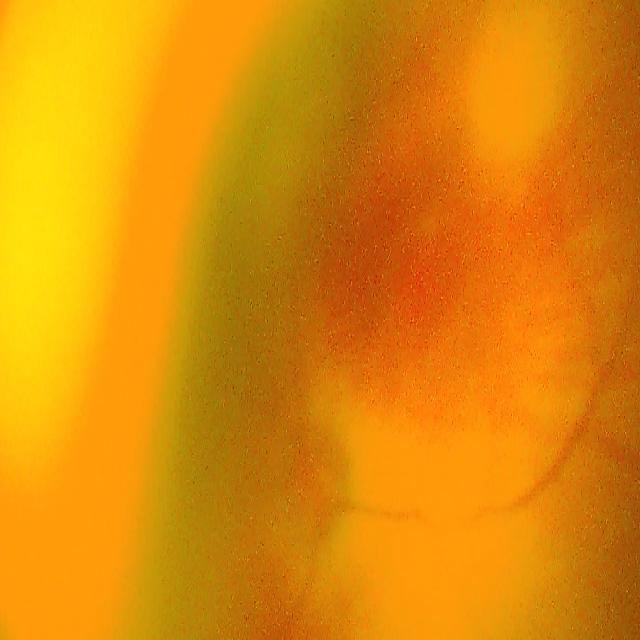optic-nerve: (276, 413, 358, 551)
